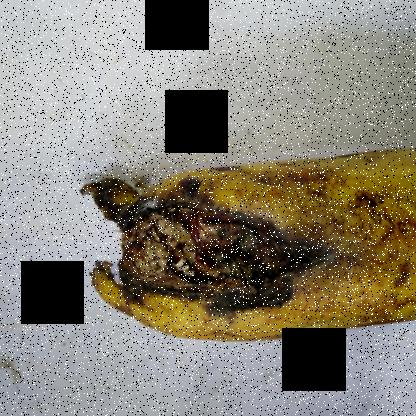ripe: (316, 137, 415, 346)
rotten: (62, 172, 336, 362)
